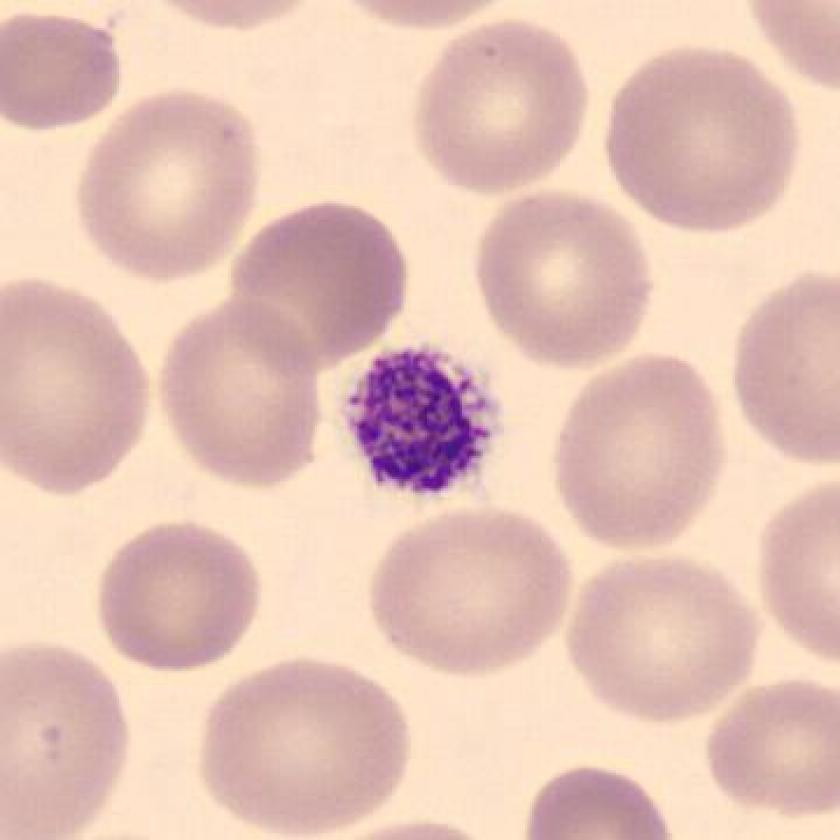platelets: (337, 341, 507, 506)
